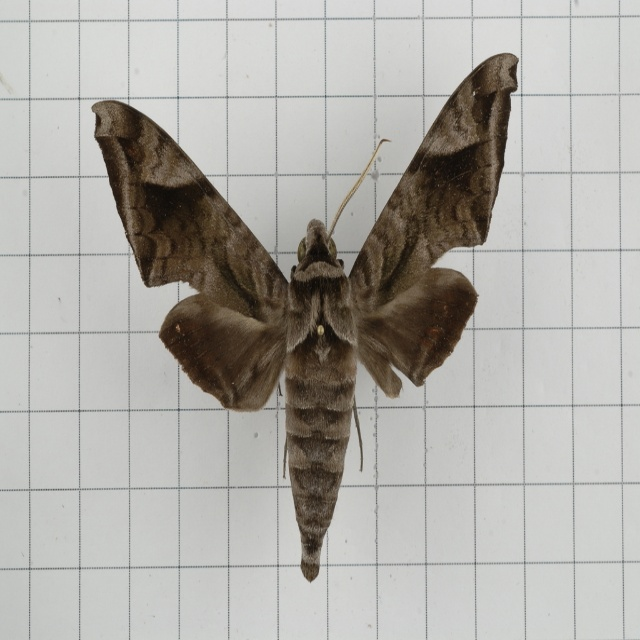Butterfly: (98, 79, 518, 585)
